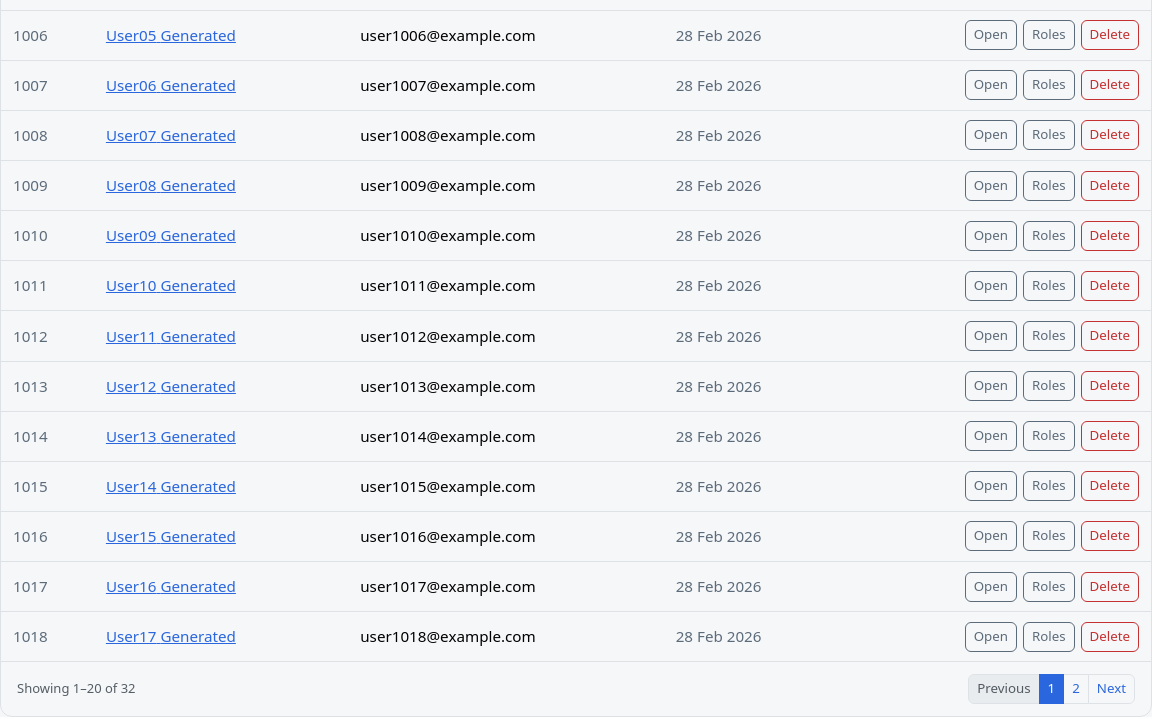
Scenario: List screens › disables the boundary controls at the ends of the range
(page scrolled)
Expected: the text "Showing 1–20 of 32" is shown, [17,680,136,699]
Expected: the button "Previous" is disabled, [968,674,1040,704]
What coordinates should you click on to do the following:
click the button "Next"
I would click on:
 (1111, 689)
Its box is [1088,674,1135,704].
(page scrolled)
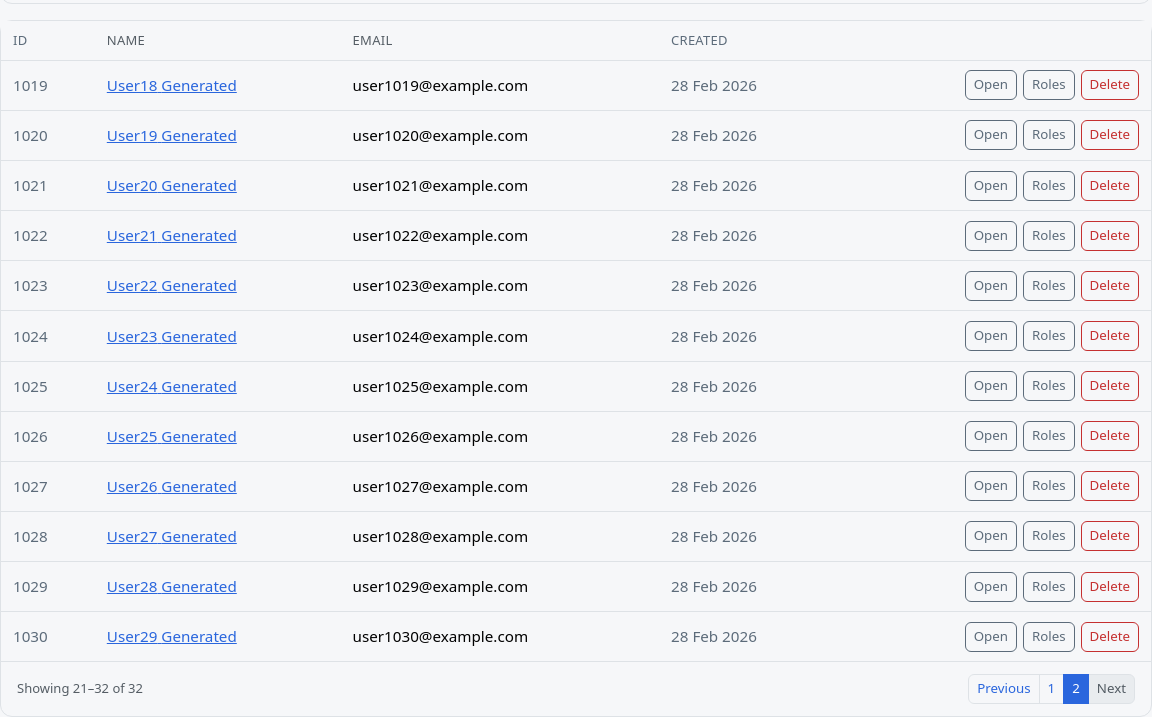
Result: the text "Showing 21–32 of 32" is shown at [17,680,143,699]
Result: the button "Next" is disabled at [1088,674,1135,704]
